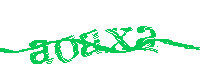a: (28, 38, 53, 66), (134, 25, 157, 52), (78, 29, 101, 55)
o: (53, 33, 79, 65)
x: (105, 25, 134, 54)
